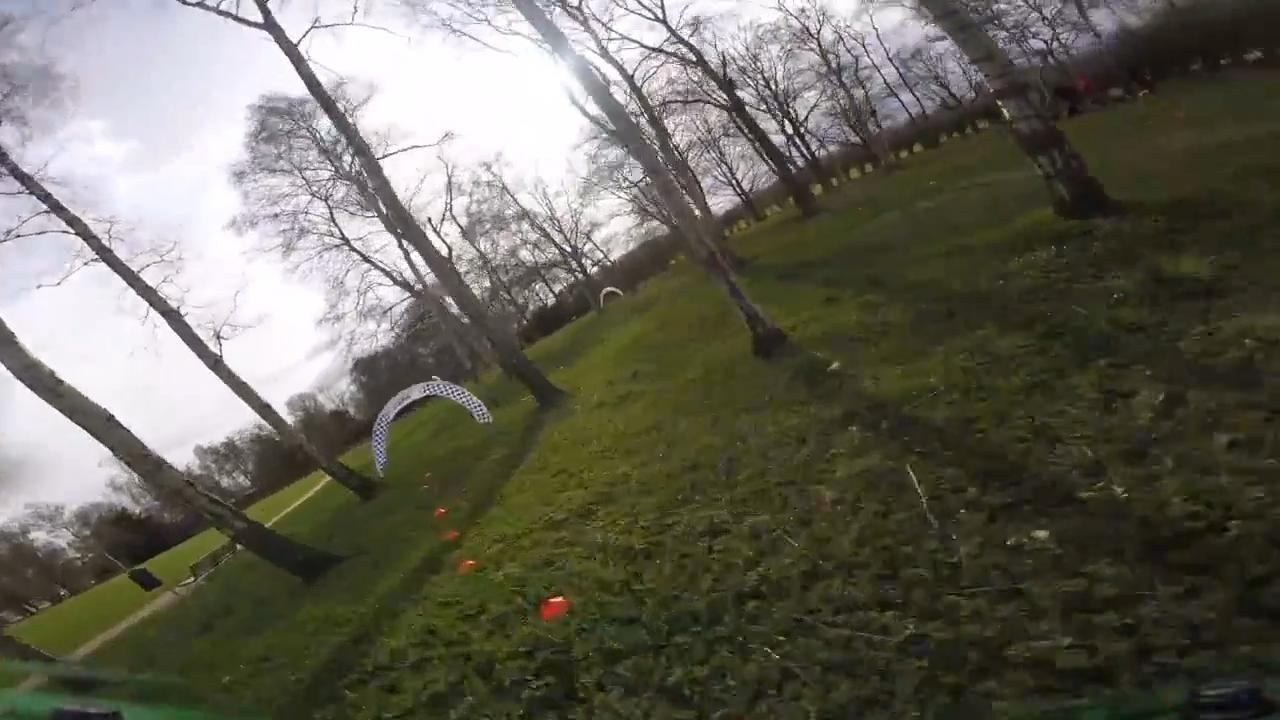gate: (366, 380, 497, 475)
